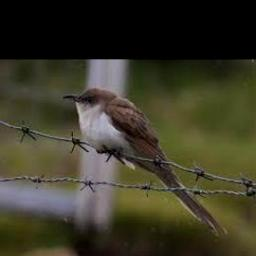Cuckoo: (62, 87, 228, 234)
